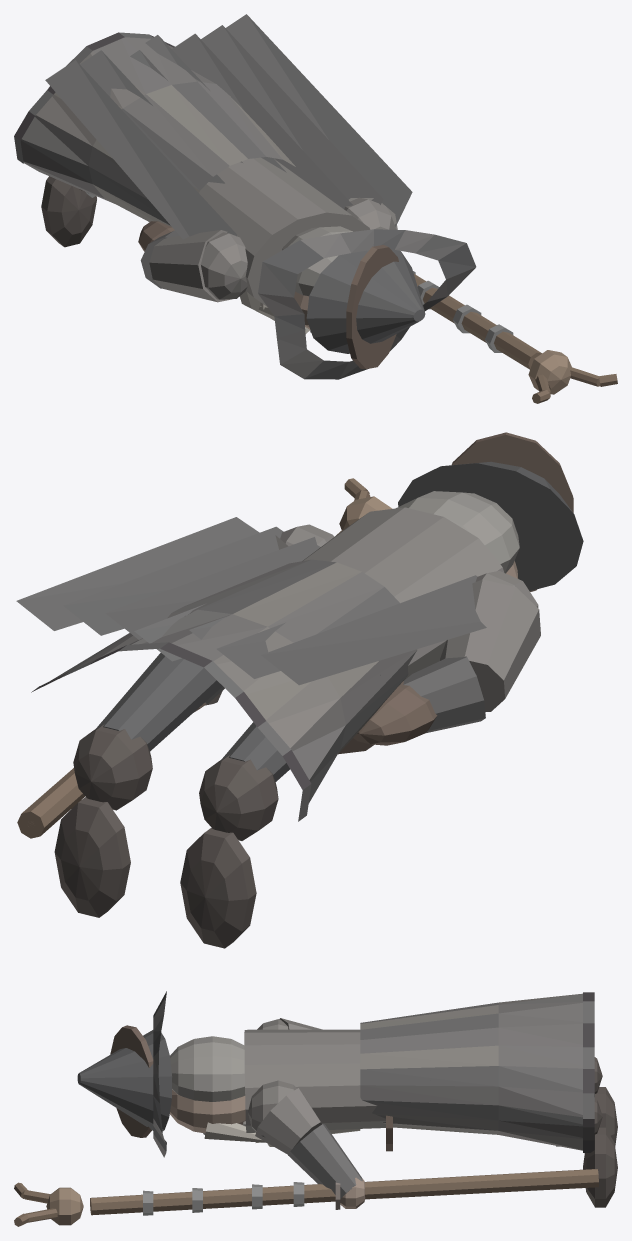
Rendered from wizard-summoner-neutral.glb.
3 renders of one model, top to bottom at view 1: azimuth 30°, elevation 25°; view 2: azimuth 150°, elevation 25°; view 3: azimuth 270°, elevation 25°, orthographic. The views are drawn at different scales.
Parts seen in each view (by area): view 1: cape, robe, hat-brim, torso, hat-crown, shoulder, upper-arm, boot, hat-band, staff, totem, hem (+4 smaller); view 2: cape, robe, boot, torso, hat-crown, leg, upper-arm, forearm, rear-hair, hat-band, hem, pouch (+3 smaller); view 3: robe, torso, staff, hat-crown, rear-hair, boot, forearm, upper-arm, face, hem, shoulder, hat-band (+6 smaller).
Part boxes in pixels (x1,y1,x2,y2): cape: [45, 14, 412, 239]; robe: [20, 37, 295, 226]; hat-brim: [258, 229, 476, 379]; torso: [199, 157, 369, 306]; hat-crown: [306, 249, 425, 353]; shoulder: [201, 197, 396, 299]; upper-arm: [149, 198, 397, 302]; boot: [41, 176, 96, 247]; hat-band: [346, 245, 398, 369]; staff: [414, 274, 541, 369]; totem: [528, 350, 571, 394]; hem: [14, 32, 174, 163]; cape: [16, 517, 486, 685]; robe: [51, 559, 417, 803]; boot: [54, 724, 278, 948]; torso: [302, 507, 504, 680]; hat-crown: [398, 461, 583, 590]; leg: [94, 653, 380, 782]; upper-arm: [275, 535, 540, 712]; forearm: [205, 656, 485, 732]; rear-hair: [395, 491, 519, 573]; hat-band: [451, 432, 573, 591]; hem: [31, 642, 311, 821]; pouch: [353, 681, 437, 745]; robe: [360, 993, 582, 1150]; torso: [244, 1029, 385, 1132]; staff: [90, 1169, 598, 1215]; hat-crown: [77, 1030, 172, 1130]; rear-hair: [170, 1036, 245, 1101]; boot: [556, 1057, 617, 1207]; forearm: [288, 1124, 362, 1198]; upper-arm: [255, 1018, 322, 1154]; face: [170, 1090, 245, 1133]; hem: [583, 992, 594, 1152]; shoulder: [248, 1019, 304, 1137]; hat-band: [110, 1025, 153, 1137].
Size of the model in its own units: 1.3 by 0.8595 by 2.58.
